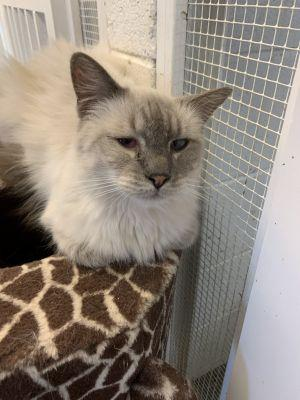siamese: (66, 40, 236, 226)
